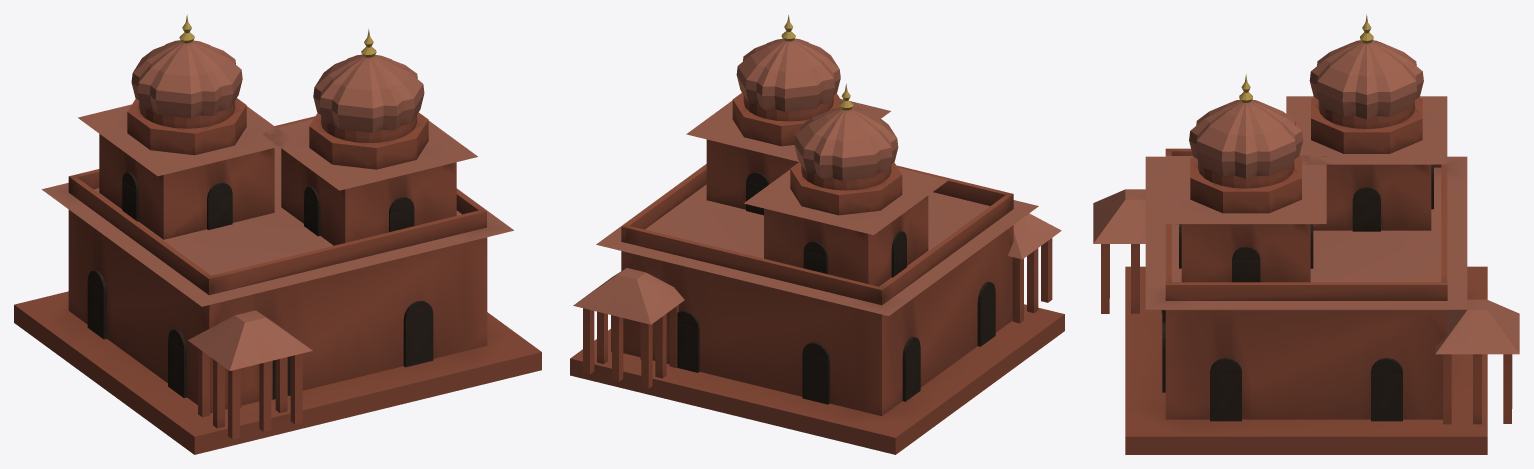
The model's file is birbal-house.glb.
The picture shows the model from 3 angles, left to right: view 1: azimuth 30°, elevation 25°; view 2: azimuth 150°, elevation 25°; view 3: azimuth 270°, elevation 25°; orthographic projection. The views are drawn at different scales.
Parts seen in each view (by area): view 1: p0_ground storey, p1_porches and upper rooms, p2_domes; view 2: p0_ground storey, p1_porches and upper rooms, p2_domes; view 3: p0_ground storey, p1_porches and upper rooms, p2_domes.
Part boxes in pixels (bbox=[...]): p0_ground storey: bbox=[14, 116, 541, 454]; p1_porches and upper rooms: bbox=[78, 104, 477, 439]; p2_domes: bbox=[127, 14, 428, 169]; p0_ground storey: bbox=[570, 164, 1064, 454]; p1_porches and upper rooms: bbox=[573, 98, 1061, 388]; p2_domes: bbox=[732, 15, 902, 215]; p0_ground storey: bbox=[1125, 148, 1487, 454]; p1_porches and upper rooms: bbox=[1093, 96, 1519, 424]; p2_domes: bbox=[1189, 14, 1423, 213].
Size of the model in its own units: 20 by 17.9 by 21.2.
